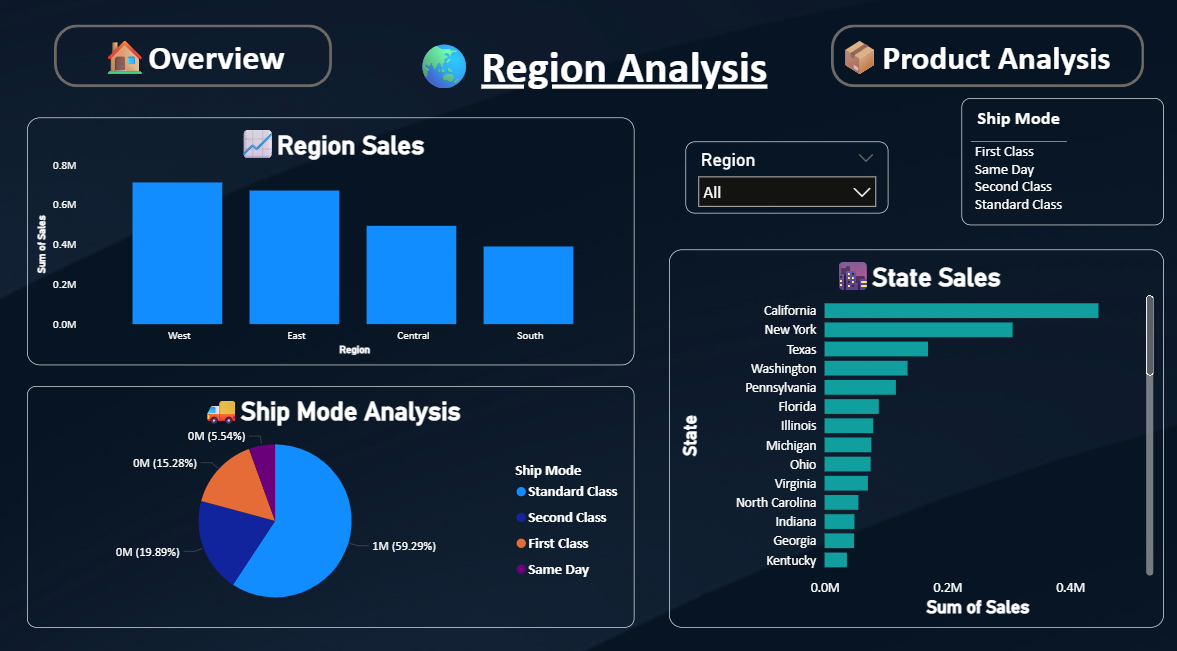

The page's visual inventory and layout, read from the dashboard file:
{"tool":"powerbi","page":{"name":"Region Analysis","canvas":[1280,720],"ordinal":2},"visuals":[{"type":"textbox","box":[403.4,24.4,466.8,92.7],"z":0},{"type":"columnChart","title":"📈Region Sales","fields":{"Category":["train.Region"],"Y":["Sum(train.Sales)"]},"box":[29.3,138.3,658.8,268.4],"z":1000},{"type":"pieChart","title":"🚚Ship Mode Analysis ","fields":{"Category":["train.Ship Mode"],"Y":["Sum(train.Sales)"]},"box":[29.3,429.4,658.8,261.9],"z":2000},{"type":"barChart","title":"🌆State Sales","fields":{"Category":["train.State"],"Y":["Sum(train.Sales)"]},"box":[725.4,281.4,536.8,409.9],"z":3000},{"type":"slicer","fields":{"Values":["train.Region"]},"box":[743.8,164,220.3,77.9],"z":4000},{"type":"tableEx","fields":{"Values":["train.Ship Mode"]},"box":[1042.6,117.1,219.6,138.3],"z":5000},{"type":"actionButton","box":[58,38.1,301.5,67.9],"z":6000},{"type":"actionButton","box":[901.1,38.1,339.6,67.9],"z":7000}]}

Visuals, with their boxes in screenshot pixels (x1, y1, x2, y2), scaled from the page's 1280x720 canvas onto the 1177x651 screenshot:
textbox: {"x1": 371, "y1": 22, "x2": 800, "y2": 106}
"📈Region Sales" columnChart: {"x1": 27, "y1": 125, "x2": 633, "y2": 368}
"🚚Ship Mode Analysis " pieChart: {"x1": 27, "y1": 388, "x2": 633, "y2": 625}
"🌆State Sales" barChart: {"x1": 667, "y1": 254, "x2": 1161, "y2": 625}
slicer - train.Region: {"x1": 684, "y1": 148, "x2": 887, "y2": 219}
tableEx - train.Ship Mode: {"x1": 959, "y1": 106, "x2": 1161, "y2": 231}
actionButton: {"x1": 53, "y1": 34, "x2": 331, "y2": 96}
actionButton: {"x1": 829, "y1": 34, "x2": 1141, "y2": 96}
